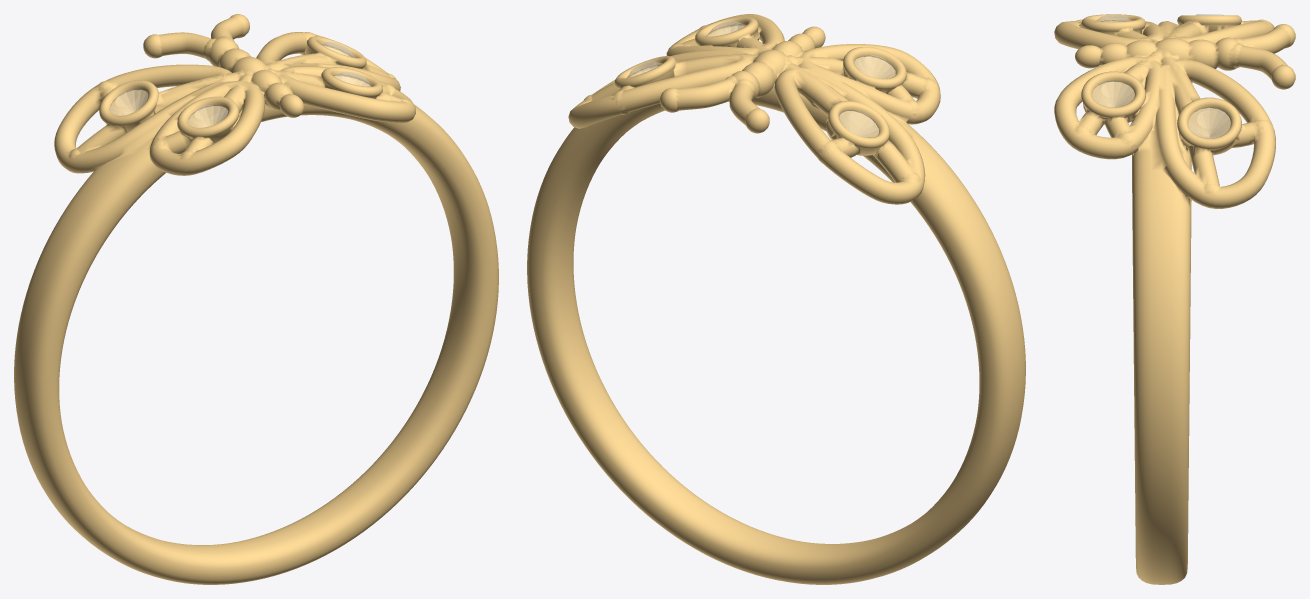
The model's file is ring_butterfly.glb.
3 renders of one model, left to right at view 1: azimuth 30°, elevation 25°; view 2: azimuth 150°, elevation 25°; view 3: azimuth 270°, elevation 25°, orthographic. The views are drawn at different scales.
Visible parts, largest first — view 1: gold, wing_stone_stone.002, wing_stone_stone.003; view 2: gold, wing_stone_stone.002, wing_stone_stone.003; view 3: gold, wing_stone_stone, wing_stone_stone.001.
Part boxes in pixels (<box>): gold: <box>14,14,498,584</box>; wing_stone_stone.002: <box>110,89,147,115</box>; wing_stone_stone.003: <box>188,105,227,127</box>; gold: <box>527,14,1025,584</box>; wing_stone_stone.002: <box>839,110,878,137</box>; wing_stone_stone.003: <box>854,55,895,78</box>; gold: <box>1054,14,1295,584</box>; wing_stone_stone: <box>1188,107,1230,138</box>; wing_stone_stone.001: <box>1092,81,1134,107</box>.
Size of the model in its own units: 0.02 by 0.0208 by 0.00873.
